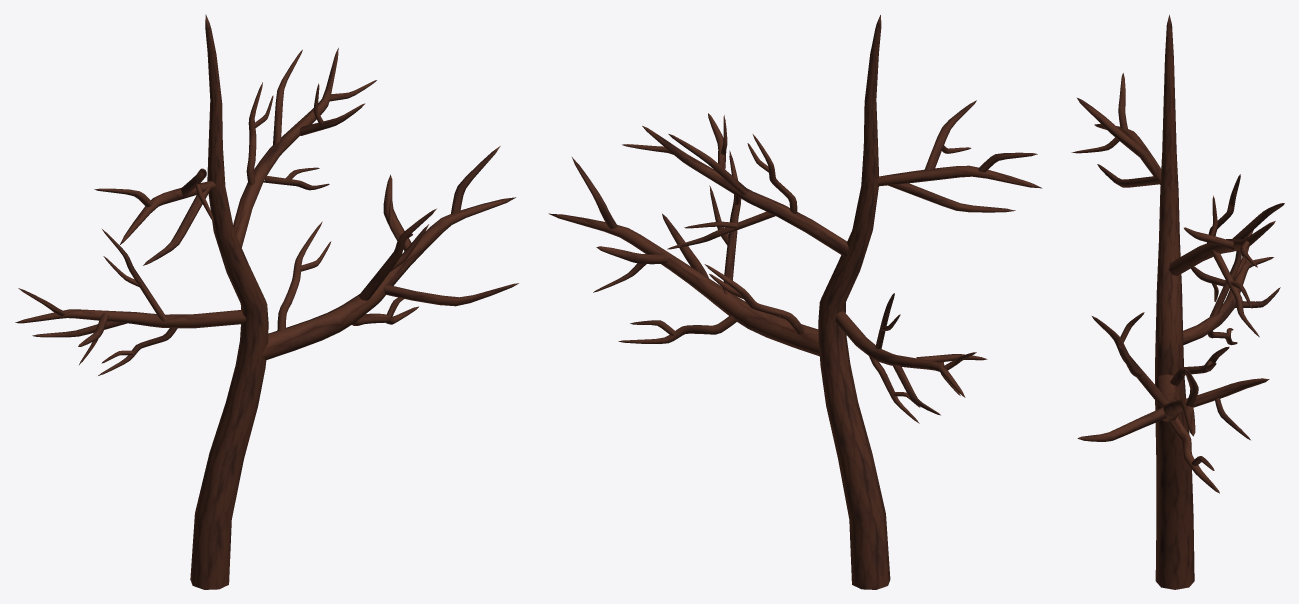
File: dead_tree_3.glb
The picture shows the model from 3 angles, left to right: view 1: azimuth 30°, elevation 25°; view 2: azimuth 150°, elevation 25°; view 3: azimuth 270°, elevation 25°; orthographic projection.
Visible parts, largest first — view 1: DeadTree_32; view 2: DeadTree_32; view 3: DeadTree_32.
Boxes of the visible parts, <box> form: DeadTree_32: <box>15,14,518,589</box>; DeadTree_32: <box>548,15,1042,589</box>; DeadTree_32: <box>1071,14,1284,589</box>.
Size of the model in its own units: 4.22 by 4.96 by 1.7.
Materials: 1 (1 with a texture image).
